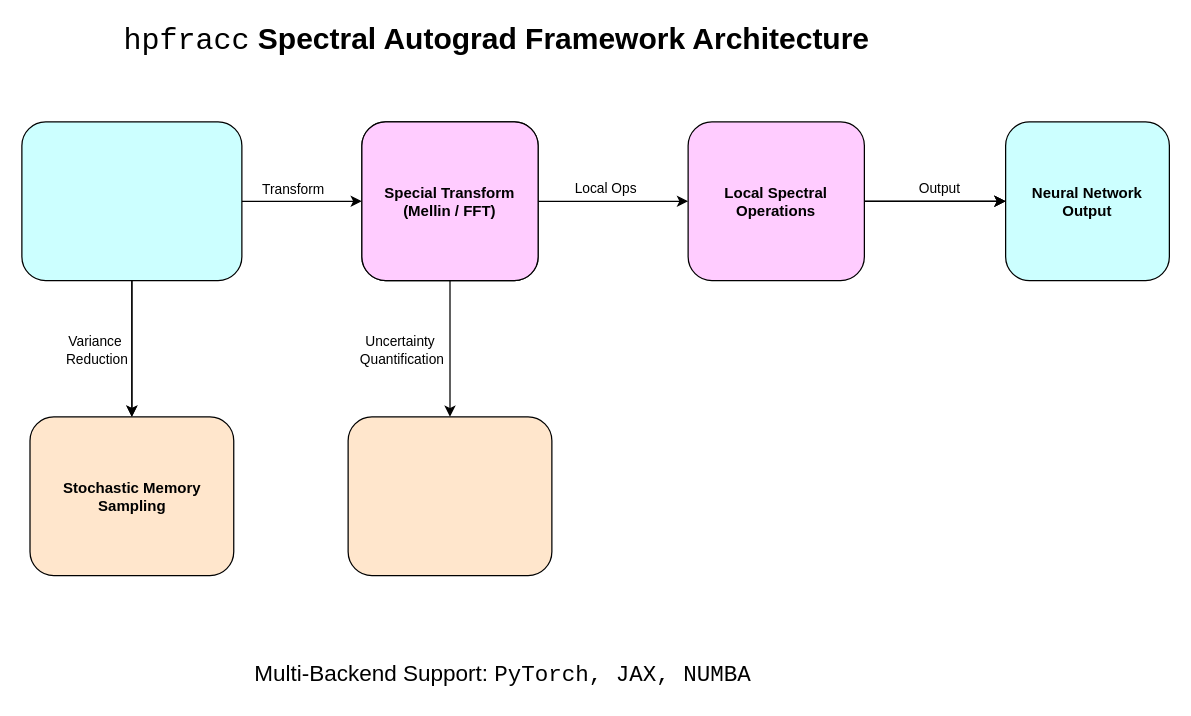
Image size: 1191x716. Some labels were removed from this diagram. Here are the shapes that lost their labels. From the top down, the box of each, then its label:
(21, 121, 242, 281): Non-local Fractional Operations
(347, 416, 552, 576): Probabilistic Fractional Orders
